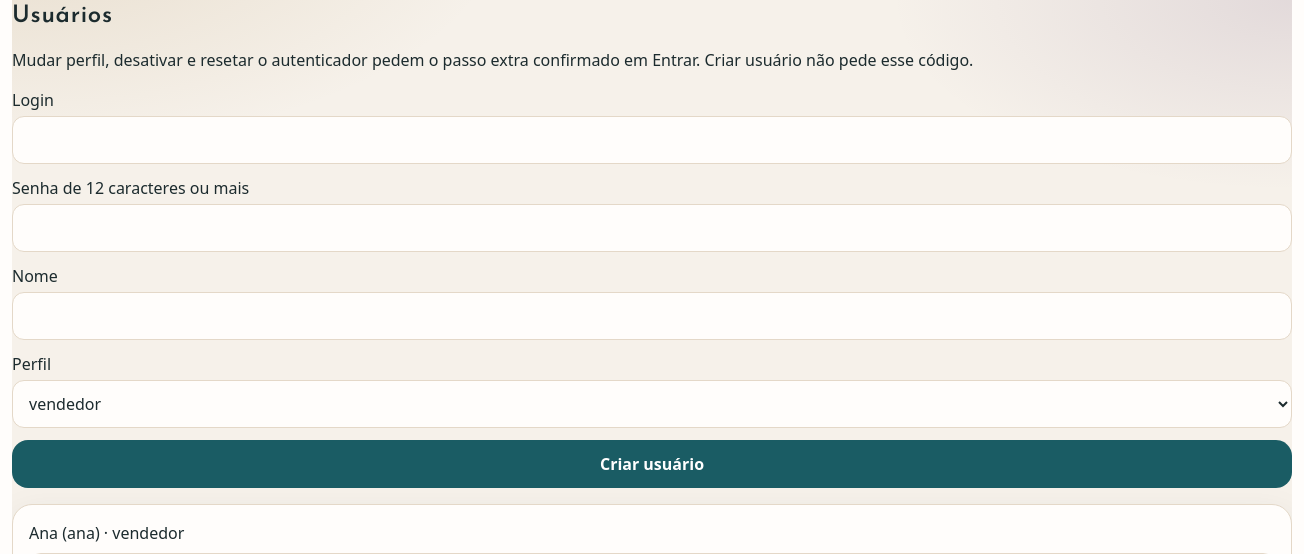
Test case: página de usuários › mostra o resultado logo abaixo de Criar usuário e mantém os campos no erro
Check: the text "Ana (ana) · vendedor" is shown, box left=29, top=522, right=184, bottom=544
Step 1. Type "bia" into the field labelled "Login" → (652, 140), box left=12, top=116, right=1292, bottom=164
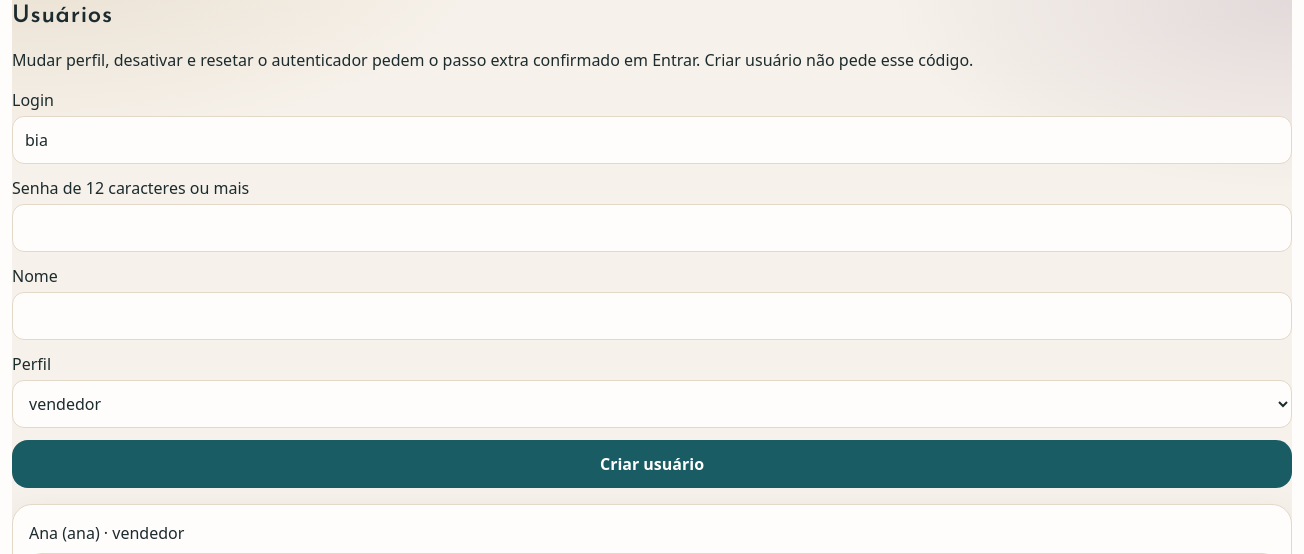
Step 2. Type "curta" into the password field labelled "Senha de 12 caracteres ou mais" → (652, 228), box left=12, top=204, right=1292, bottom=252
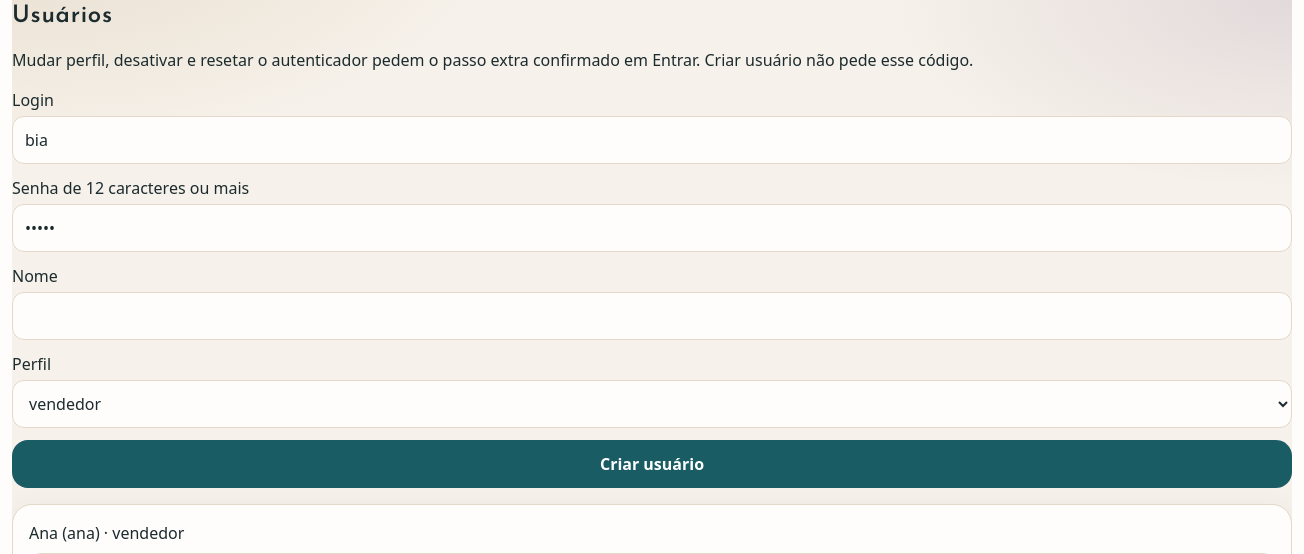
Step 3. Type "Bia" into the field labelled "Nome" → (652, 316), box left=12, top=292, right=1292, bottom=340
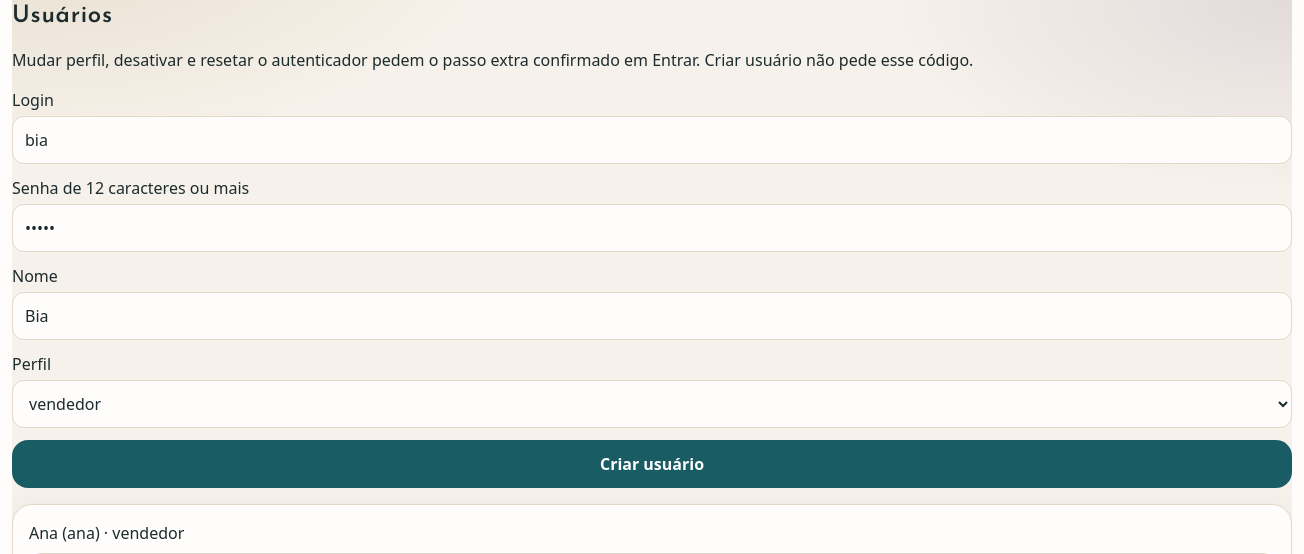
Step 4. Click the button "Criar usuário" → (652, 464), box left=12, top=440, right=1292, bottom=488
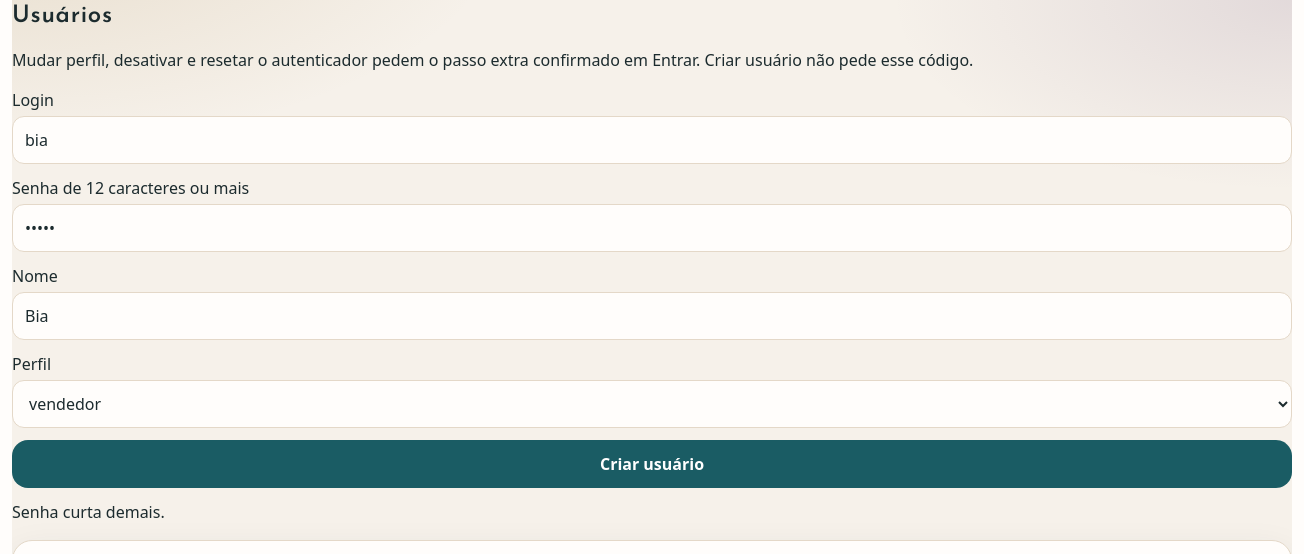
Check: the message with test id "mensagem-criacao" reads "Senha curta demais.", box left=12, top=501, right=165, bottom=523
Step 5. Click the button "Criar usuário" → (652, 464), box left=12, top=440, right=1292, bottom=488
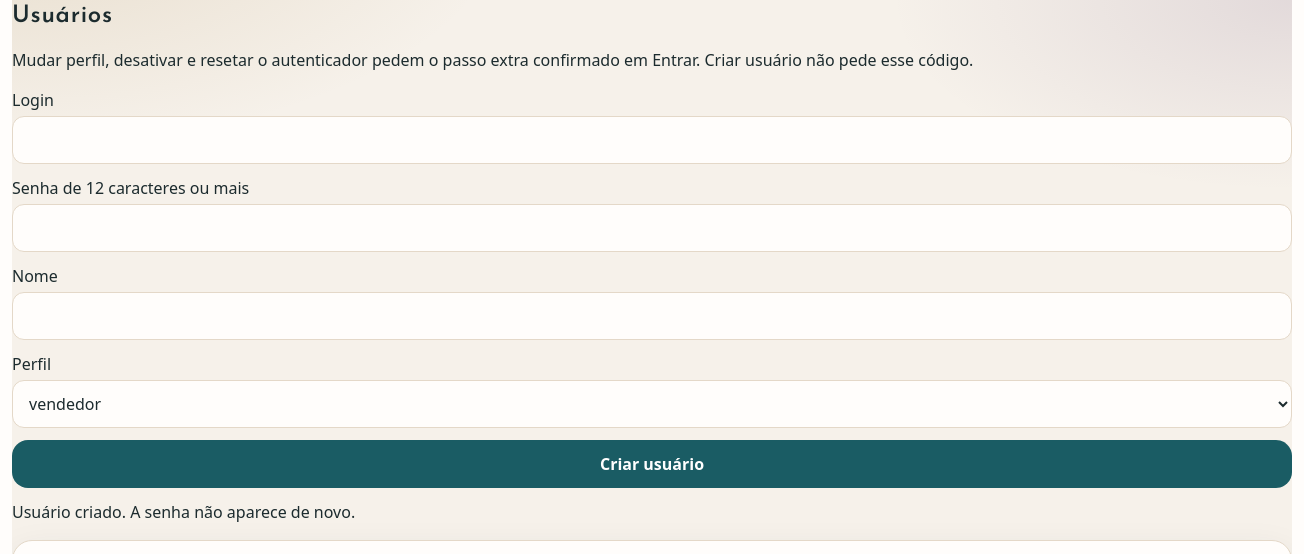
Check: the message with test id "mensagem-criacao" shows "Usuário criado", box left=12, top=501, right=355, bottom=523
Check: the field labelled "Login" is empty, box left=12, top=116, right=1292, bottom=164
